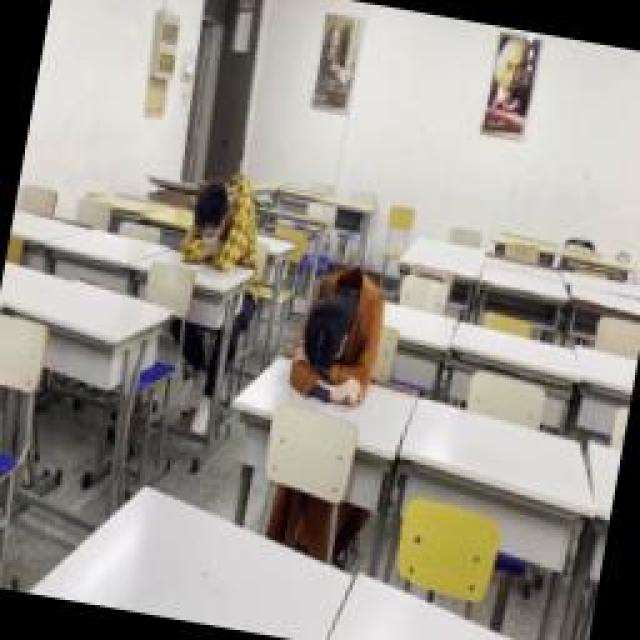sleep: (285, 260, 393, 408), (178, 170, 268, 272)
